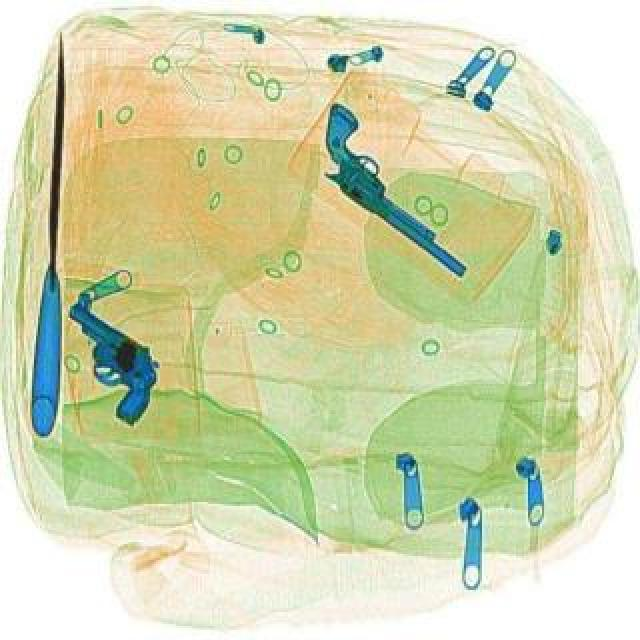gun: (284, 104, 508, 282), (28, 300, 182, 432)
knife: (26, 34, 78, 442)
